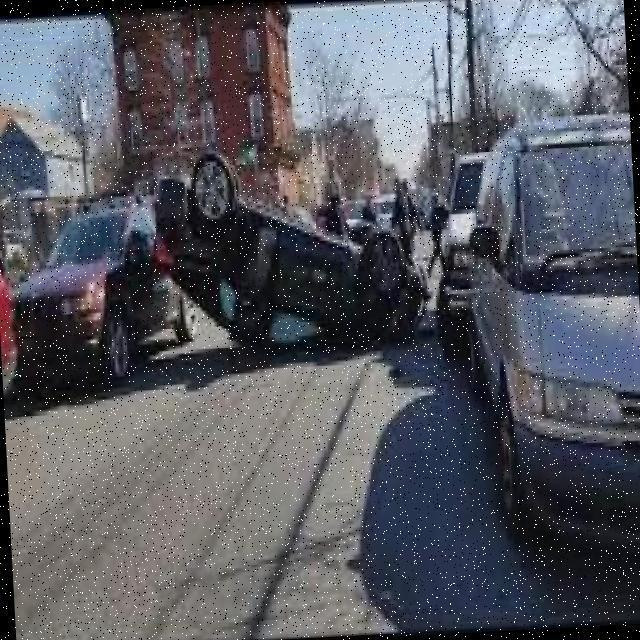accident: (72, 143, 436, 389)
